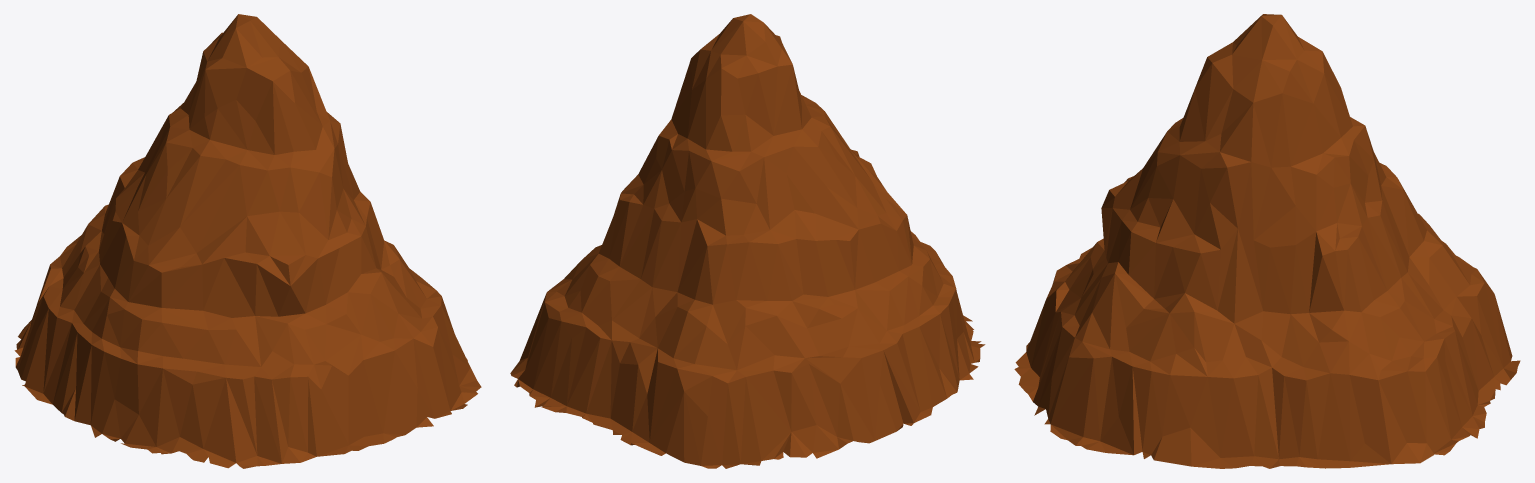
File: Mountain_2_Grass_LOD_Medium.glb
3 renders of one model, left to right at view 1: azimuth 30°, elevation 25°; view 2: azimuth 150°, elevation 25°; view 3: azimuth 270°, elevation 25°, orthographic. The views are drawn at different scales.
Parts seen in each view (by area): view 1: Mountain_2_Grass_LOD_Medium.002; view 2: Mountain_2_Grass_LOD_Medium.002; view 3: Mountain_2_Grass_LOD_Medium.002.
Boxes of the visible parts, x1,y1,x2,y2 form: Mountain_2_Grass_LOD_Medium.002: [14, 14, 481, 468]; Mountain_2_Grass_LOD_Medium.002: [510, 14, 985, 468]; Mountain_2_Grass_LOD_Medium.002: [1014, 14, 1520, 468].
Size of the model in its own units: 118 by 105 by 130.
